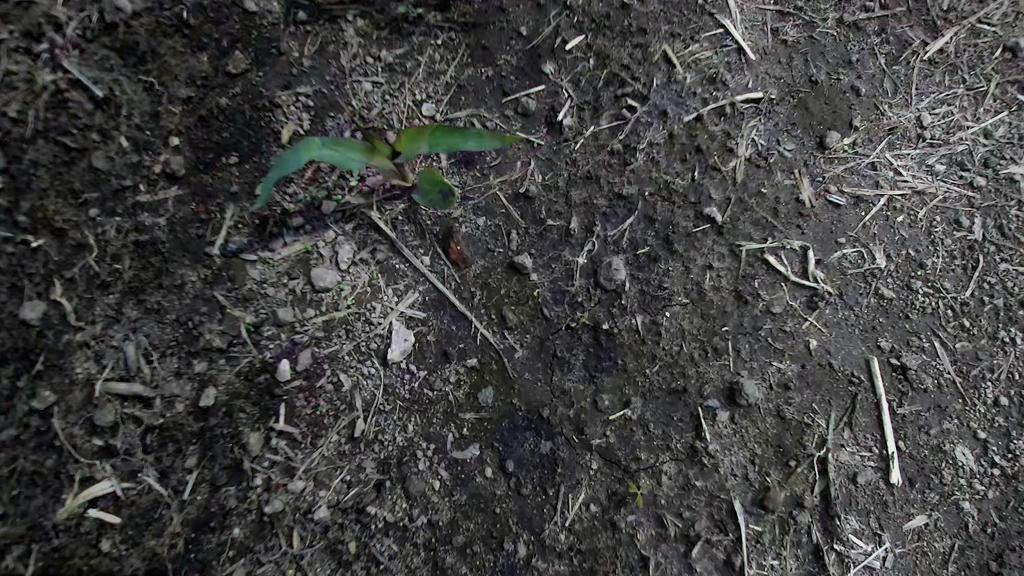BroWeed: (622, 472, 655, 511), (272, 114, 307, 149), (209, 283, 247, 315), (225, 307, 260, 327), (334, 274, 358, 299), (570, 305, 595, 329), (286, 526, 305, 553), (297, 111, 316, 132), (391, 0, 414, 15), (346, 168, 362, 188), (345, 536, 359, 555), (285, 558, 298, 576), (316, 403, 332, 417), (166, 135, 182, 148), (344, 295, 357, 308), (341, 169, 352, 180), (288, 204, 301, 213), (304, 242, 314, 253), (245, 323, 256, 333), (370, 268, 379, 280), (330, 194, 343, 201), (295, 571, 303, 576)
Maize: (246, 115, 526, 213)
